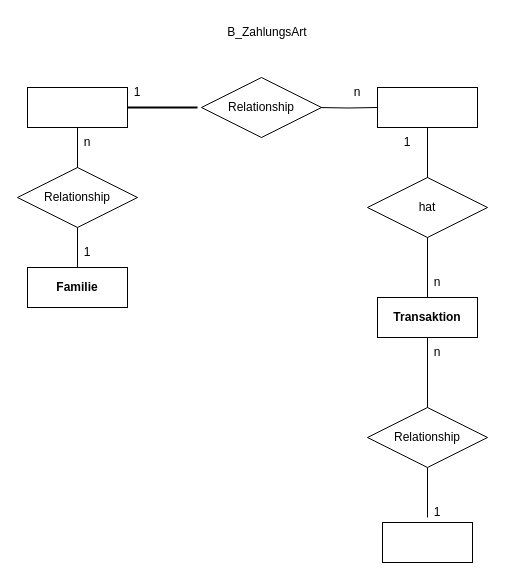
Image size: 505x580. Some labels were removed from this diagram. Each missing label, with the centre of its shape:
Benutzer: (77,107)
Kategorie: (427,542)
Konto: (427,107)
